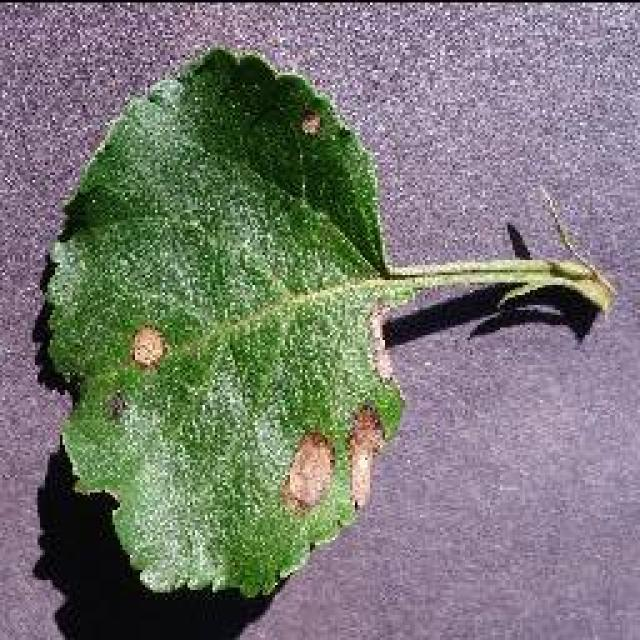apple healthy: (30, 42, 615, 602)
